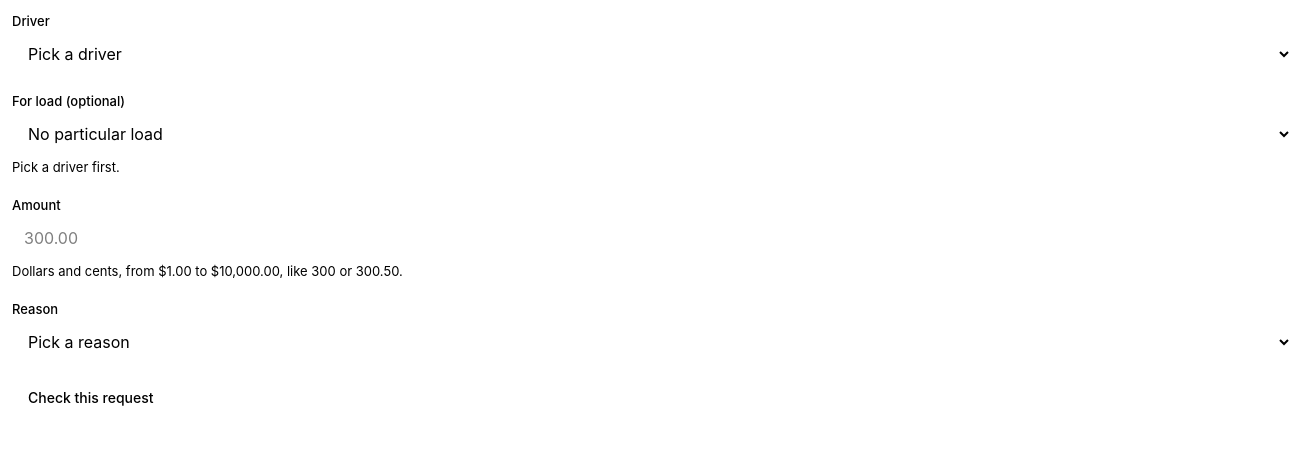
Test: the advance request form's suggested amount › replaces its own suggestion when another driver is picked, and never a typed amount
Select "BR-D01, Ann Example" in the dropdown labelled "Driver" at (652, 54), box 12,36 -> 1292,72
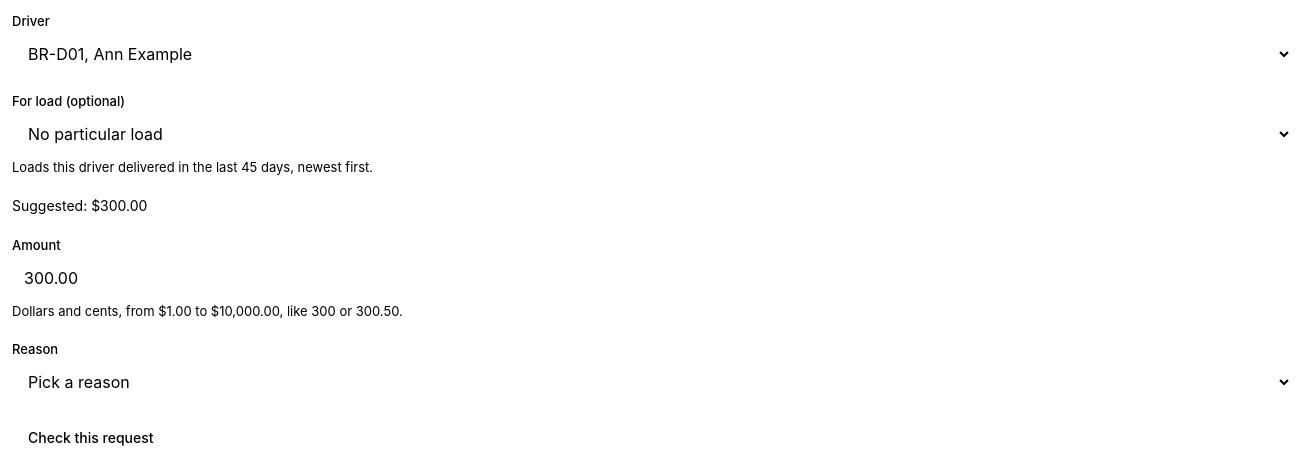
Check: the field labelled "Amount" holds "300.00", box 12,260 -> 1292,296
Select "BR-D02, Ben Example" in the dropdown labelled "Driver" at (652, 54), box 12,36 -> 1292,72
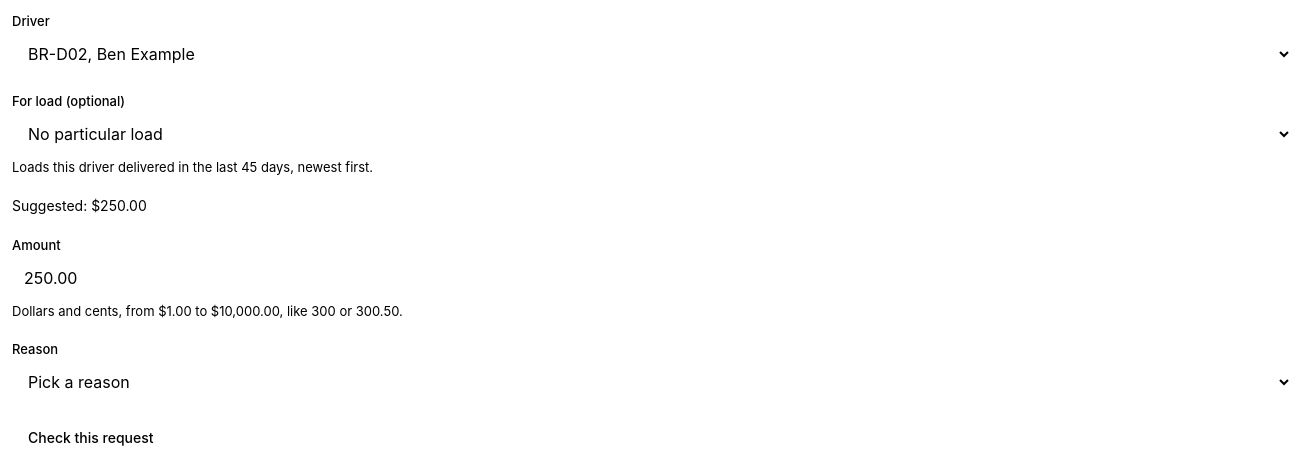
Check: the field labelled "Amount" holds "250.00", box 12,260 -> 1292,296
Check: the text "Suggested: $250.00" is shown, box 12,197 -> 147,214
Note: A driver nobody armed suggests nothing, so the last suggestion does not stay behind.
Select "BR-D03, Cal Example" in the dropdown labelled "Driver" at (652, 54), box 12,36 -> 1292,72
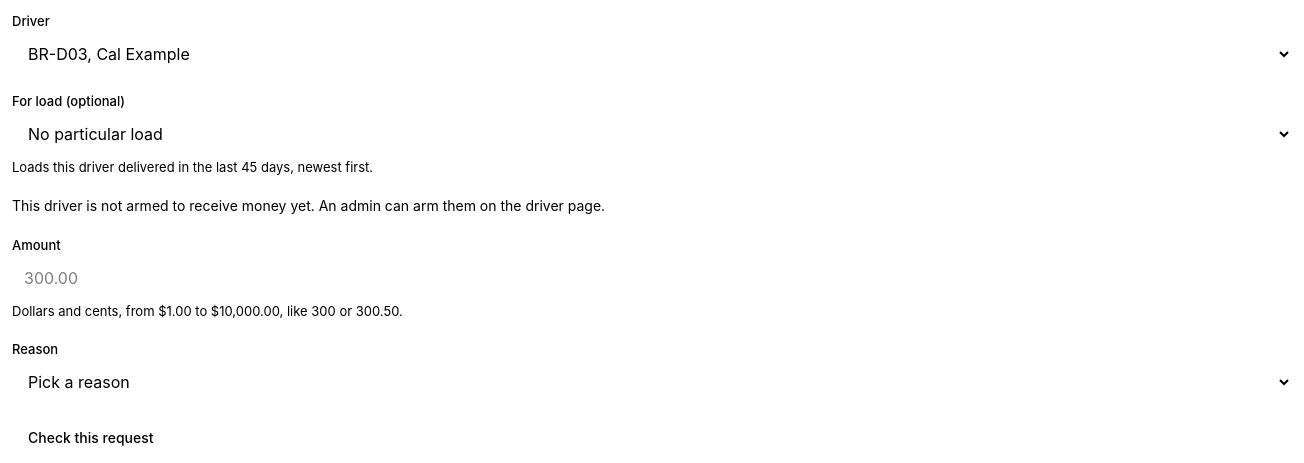
Check: the text "not armed to receive money" is shown, box 12,197 -> 605,214
Check: the field labelled "Amount" is empty
Type "123" into the field labelled "Amount".
click(652, 278); type("123")  # box 12,260 -> 1292,296
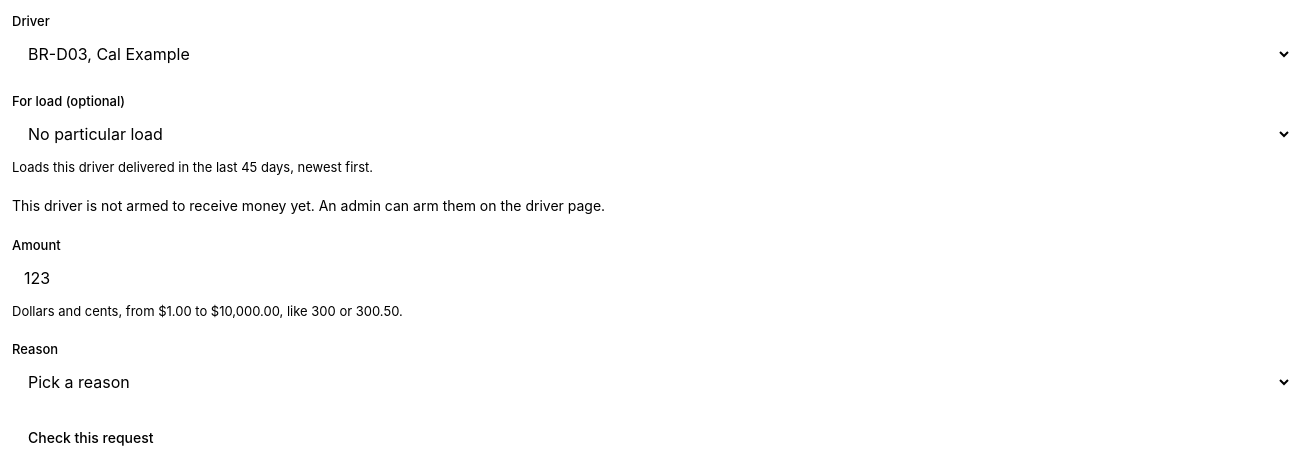
Select "BR-D01, Ann Example" in the dropdown labelled "Driver" at (652, 54), box 12,36 -> 1292,72
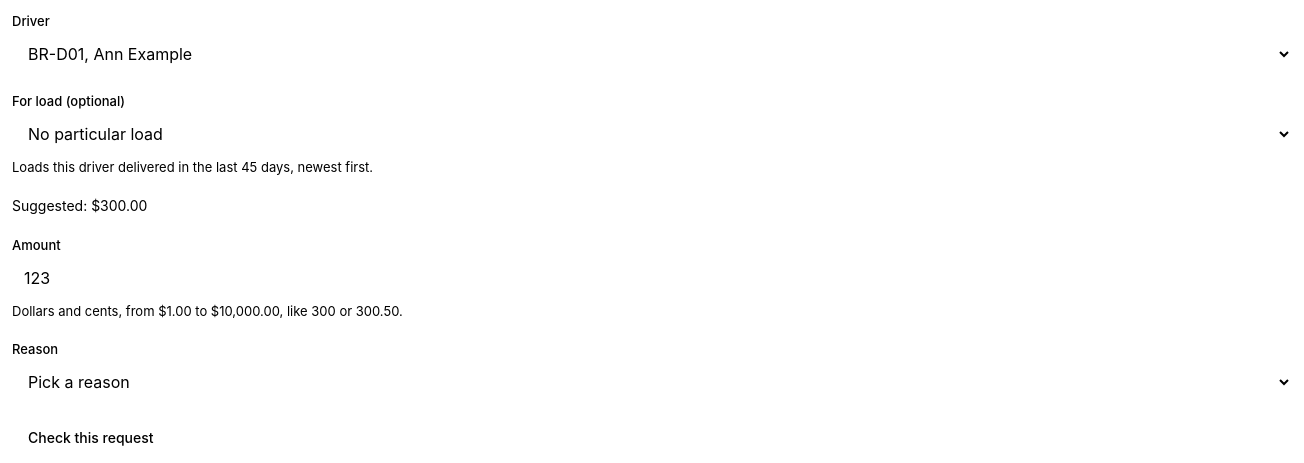
Check: the text "Suggested: $300.00" is shown, box 12,197 -> 147,214
